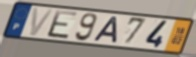4: (143, 19, 170, 50)
7: (123, 16, 149, 48)
9: (74, 12, 99, 43)
A: (91, 16, 119, 45)
E: (45, 9, 79, 41)
V: (29, 7, 56, 38)
